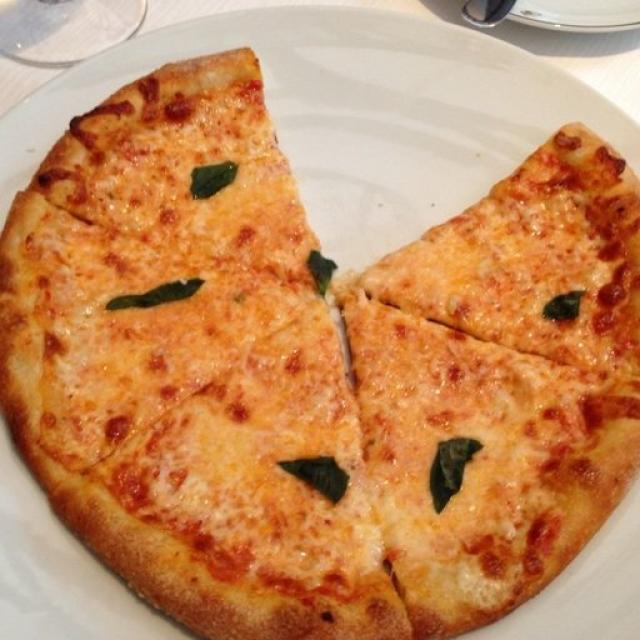Basil: (282, 452, 348, 504), (106, 280, 200, 314), (435, 433, 469, 508), (190, 162, 236, 198), (542, 289, 581, 322), (308, 249, 334, 292)
Pizza: (0, 48, 640, 640)
